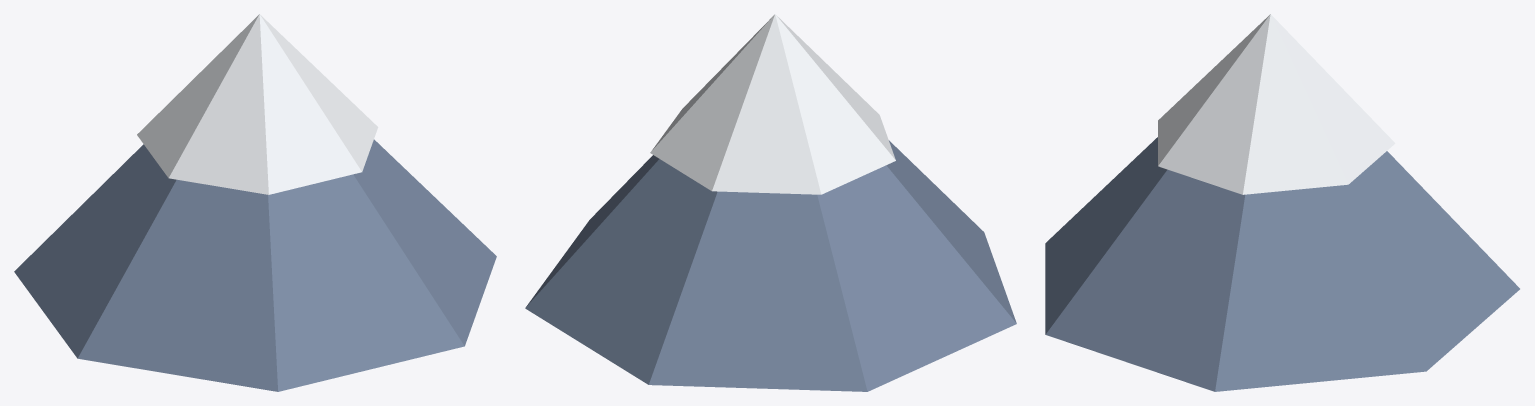
Rendered from Longboarding_Mountain.fbx.
The picture shows the model from 3 angles, left to right: view 1: azimuth 30°, elevation 25°; view 2: azimuth 150°, elevation 25°; view 3: azimuth 270°, elevation 25°; orthographic projection.
Visible parts, largest first — view 1: Mountain; view 2: Mountain; view 3: Mountain.
Boxes of the visible parts, box(x1,y1,x2,y2) form: Mountain: box(14, 14, 496, 391); Mountain: box(525, 14, 1016, 391); Mountain: box(1045, 14, 1519, 391).
Bounding box in the file's own units: 27.3 × 17 × 26.61.
